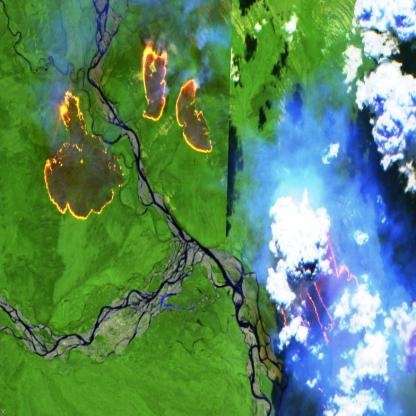fire: (40, 86, 126, 224), (275, 220, 364, 350), (138, 37, 216, 160)
